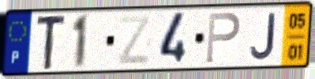1: (71, 12, 93, 72)
4: (157, 10, 192, 69)
J: (248, 11, 277, 62)
P: (204, 11, 242, 65)
T: (35, 13, 69, 72)
Z: (116, 13, 153, 67)
